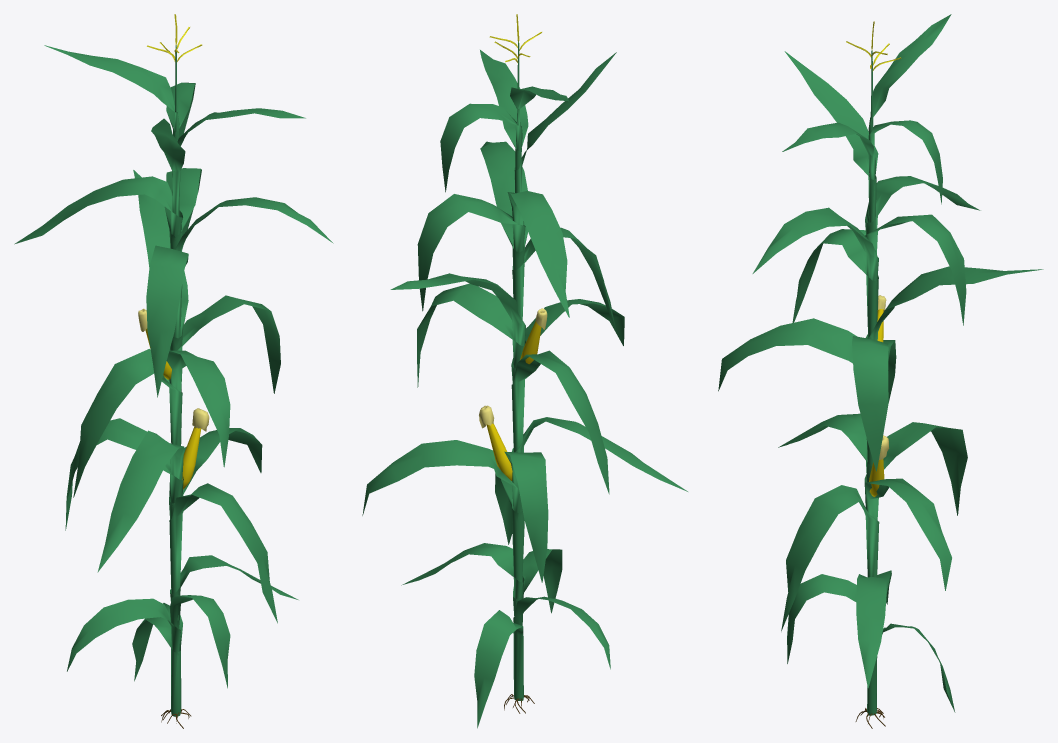
File: cornLOD1.gltf
3 renders of one model, left to right at view 1: azimuth 30°, elevation 25°; view 2: azimuth 150°, elevation 25°; view 3: azimuth 270°, elevation 25°, orthographic.
Visible parts, largest first — view 1: LeavesLOD1, CornLOD1; view 2: LeavesLOD1, CornLOD1; view 3: LeavesLOD1.
Boxes of the visible parts, x1,y1,x2,y2 form: LeavesLOD1: [14, 45, 333, 716]; CornLOD1: [145, 328, 201, 489]; LeavesLOD1: [362, 50, 687, 728]; CornLOD1: [486, 312, 541, 480]; LeavesLOD1: [718, 14, 1043, 715].
Size of the model in its own units: 114 by 310 by 130.
